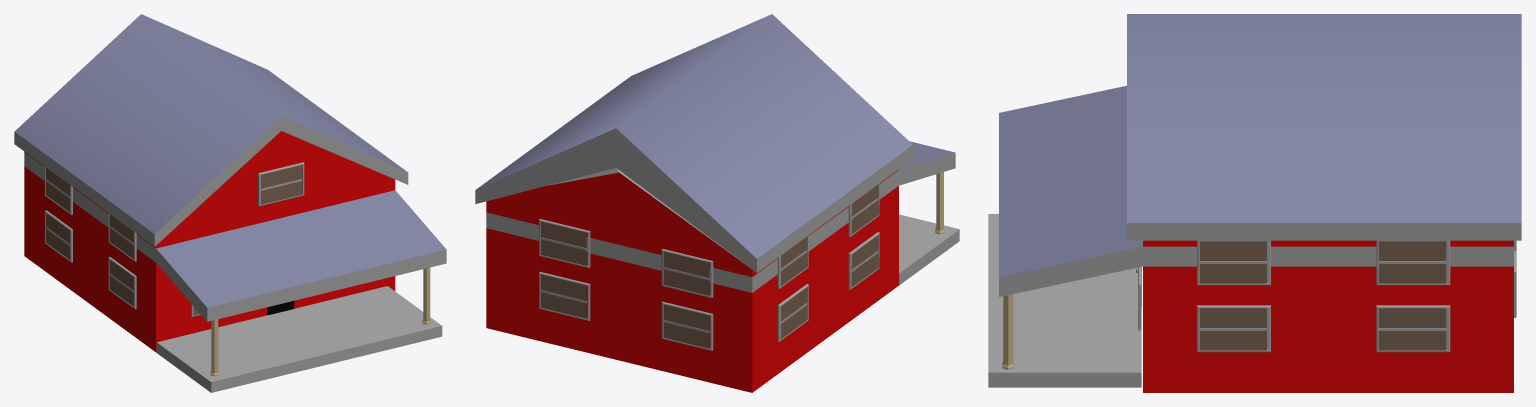
File: Farmhouse1.fbx
The picture shows the model from 3 angles, left to right: view 1: azimuth 30°, elevation 25°; view 2: azimuth 150°, elevation 25°; view 3: azimuth 270°, elevation 25°; orthographic projection. The views are drawn at different scales.
Visible parts, largest first — view 1: pSphere36, polySurface660, polySurface663, polySurface664, polySurface665, polySurface666; view 2: pSphere36, polySurface671, polySurface664, polySurface663, polySurface666, polySurface665; view 3: pSphere36, polySurface673, polySurface674, polySurface672, polySurface675.
Part boxes in pixels (box(x1,y1,x2,y2)): pSphere36: box(14, 14, 446, 392); polySurface660: box(258, 162, 304, 206); polySurface663: box(108, 257, 136, 308); polySurface664: box(45, 210, 72, 262); polySurface665: box(108, 213, 136, 261); polySurface666: box(45, 167, 72, 214); pSphere36: box(475, 14, 959, 392); polySurface671: box(539, 219, 713, 350); polySurface664: box(777, 284, 808, 341); polySurface663: box(848, 232, 879, 289); polySurface666: box(777, 235, 808, 288); polySurface665: box(848, 183, 879, 236); pSphere36: box(988, 14, 1521, 392); polySurface673: box(1376, 305, 1450, 352); polySurface674: box(1197, 305, 1270, 352); polySurface672: box(1376, 240, 1450, 285); polySurface675: box(1197, 240, 1270, 285).
Bounding box in the file's own units: 220 × 175 × 285.
